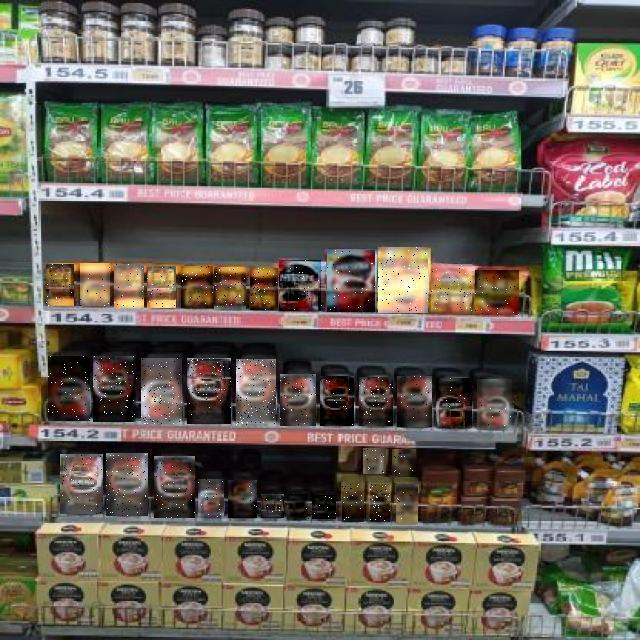Coffee: (378, 247, 428, 313), (327, 250, 375, 312), (94, 356, 138, 422), (187, 359, 231, 425), (48, 356, 90, 421), (141, 358, 182, 424), (107, 453, 149, 516), (236, 360, 276, 426), (60, 454, 103, 514), (154, 456, 195, 518), (280, 260, 324, 311), (431, 264, 472, 314), (475, 270, 519, 315), (281, 374, 317, 426), (478, 379, 514, 430), (437, 378, 473, 428), (397, 376, 432, 427), (321, 376, 355, 426), (359, 377, 393, 426), (181, 266, 213, 308), (214, 268, 246, 310), (114, 264, 144, 308), (81, 263, 111, 306), (147, 266, 176, 308), (46, 265, 74, 307), (250, 268, 278, 310), (228, 480, 257, 518), (198, 480, 224, 518), (396, 484, 418, 524), (342, 483, 364, 522), (370, 484, 390, 522), (392, 450, 416, 476), (363, 448, 386, 474), (312, 495, 336, 519), (288, 494, 310, 520), (261, 494, 284, 518)
